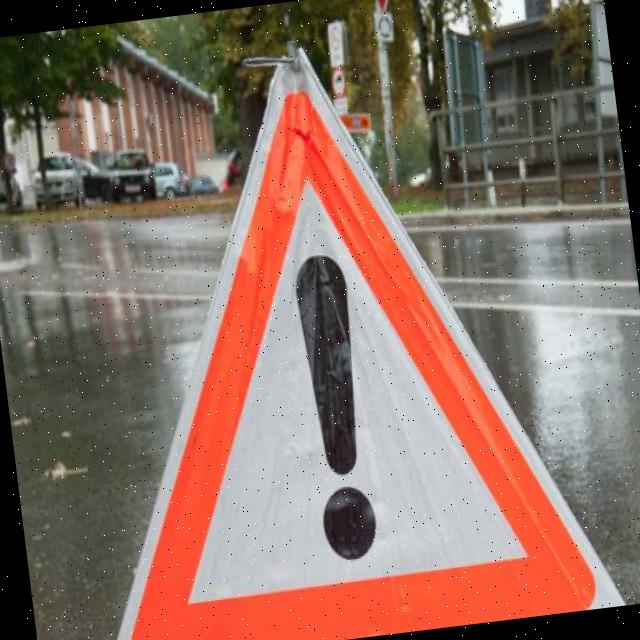warning: (55, 47, 610, 640)
